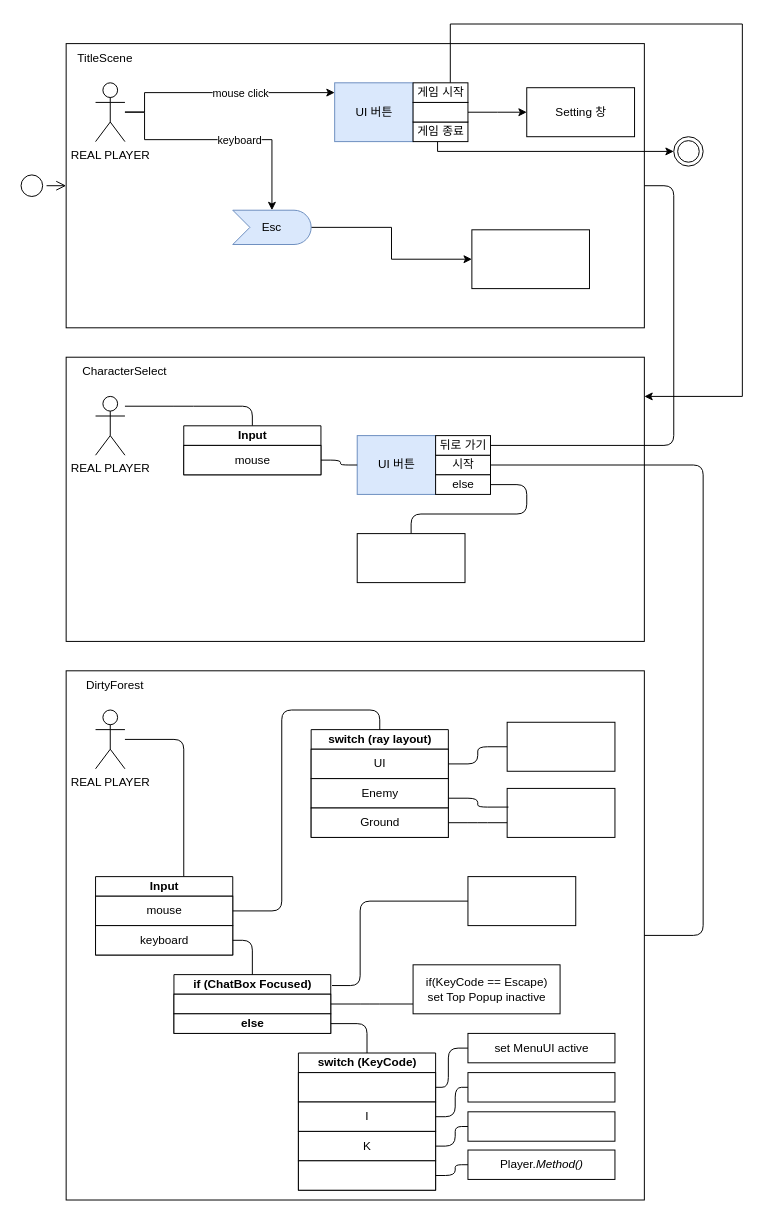
Image size: 767x1217. Some labels were removed from this diagram. Here are the shapes that lost their labels. From the top down, the centre of each, then its label:
At (440,111): "환경 설정".
At (530,259): "Menu 창".
At (410,558): "UI. method()".
At (560,746): "UI. method() + 커서 모양 변경".
At (560,812): "Player. method() + 커서 모양 변경".
At (521,901): "ChatBox. method()".
At (252,1003): "else if (Any Popup is active)".
At (366,1087): "Escape".
At (541,1087): "set InventoryUI active".
At (541,1126): "set SkillUI active".
At (366,1175): "default".
